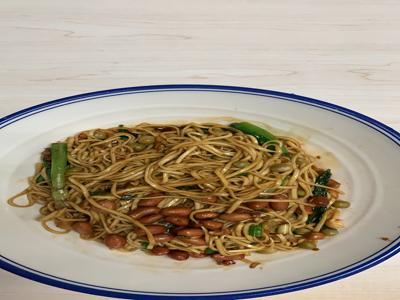cm: (35, 117, 348, 259)
